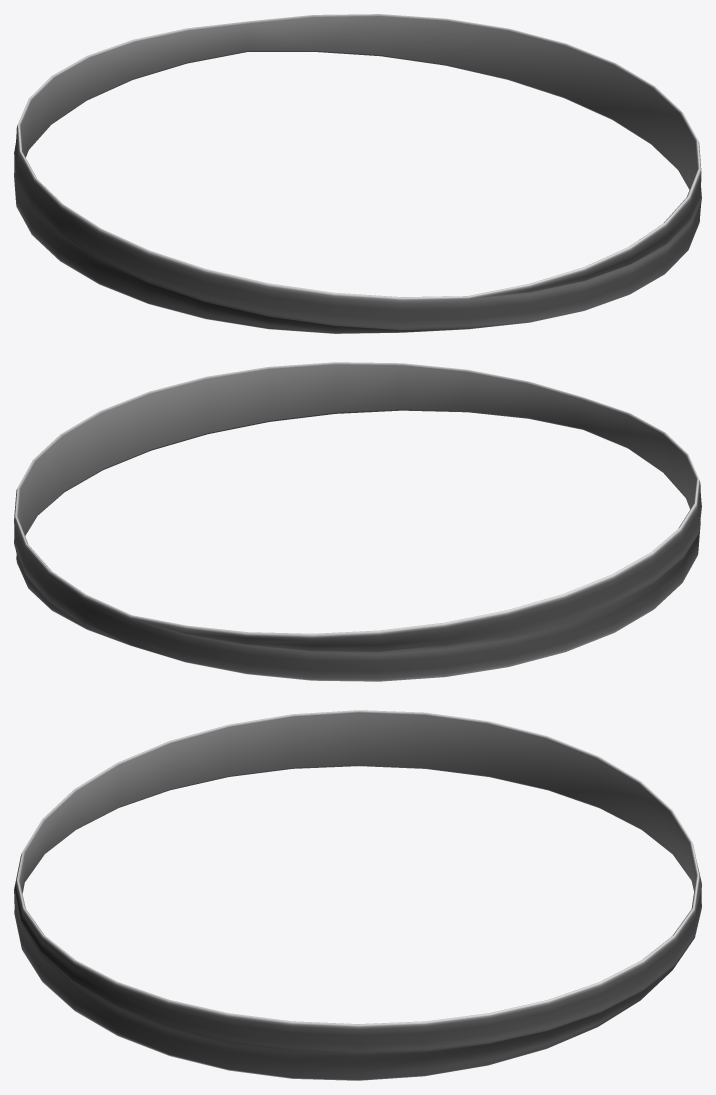
Rendered from ring.fbx.
The picture shows the model from 3 angles, top to bottom: view 1: azimuth 30°, elevation 25°; view 2: azimuth 150°, elevation 25°; view 3: azimuth 270°, elevation 25°; orthographic projection.
Parts seen in each view (by area): view 1: fe_ring; view 2: fe_ring; view 3: fe_ring.
Part boxes in pixels (x1,y1,x2,y2): fe_ring: (14,14,701,333); fe_ring: (14,362,701,681); fe_ring: (14,710,701,1080).
Bounding box in the file's own units: 2.04 × 2.05 × 0.2796.
